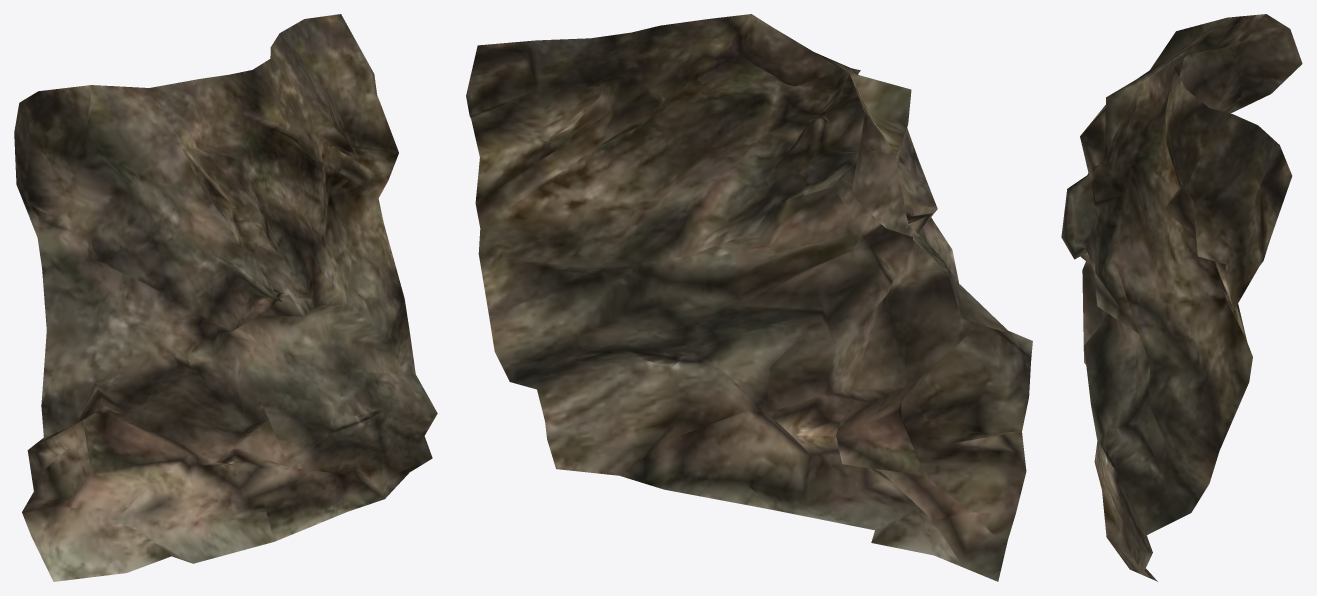
Rendered from mountainside.glb.
3 renders of one model, left to right at view 1: azimuth 30°, elevation 25°; view 2: azimuth 150°, elevation 25°; view 3: azimuth 270°, elevation 25°, orthographic. The views are drawn at different scales.
Visible parts, largest first — view 1: mountainside; view 2: mountainside; view 3: mountainside.
Boxes of the visible parts, box(x1,y1,x2,y2) form: mountainside: box(14, 14, 437, 581); mountainside: box(466, 14, 1032, 581); mountainside: box(1061, 14, 1302, 581).
Size of the model in its own units: 10.16 by 10.45 by 5.15.
1 material, 1 textured.
